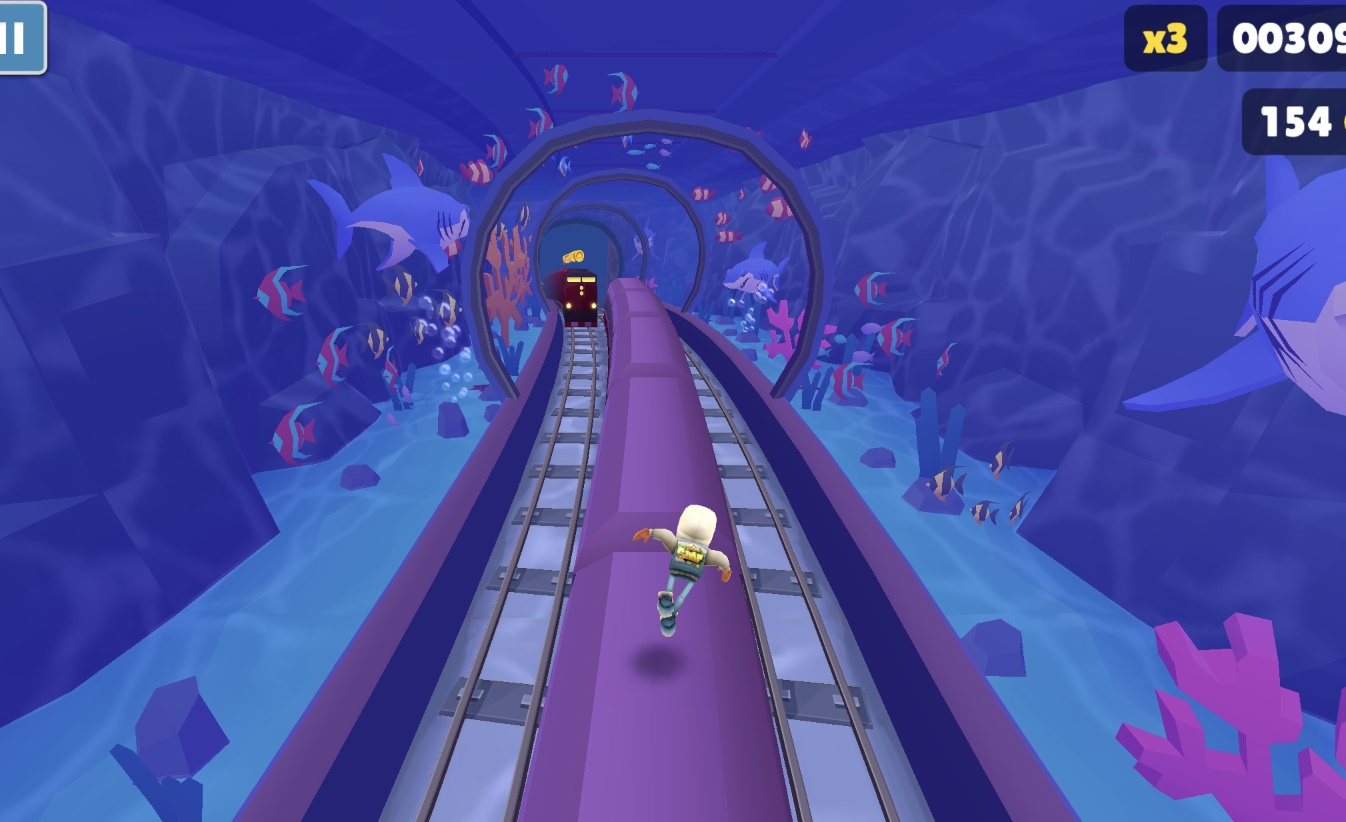train: (518, 278, 801, 822), (547, 270, 598, 330)
